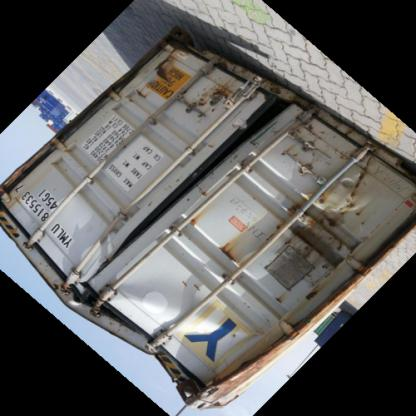Damage: (135, 298, 268, 402), (171, 66, 291, 160), (282, 164, 379, 242), (214, 244, 244, 270)
